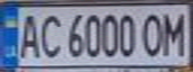0: (118, 10, 142, 58), (81, 10, 103, 58), (100, 10, 121, 58)
6: (63, 10, 84, 58)
A: (15, 10, 42, 60)
C: (36, 10, 63, 60)
M: (160, 8, 190, 56)
O: (139, 10, 166, 57)
